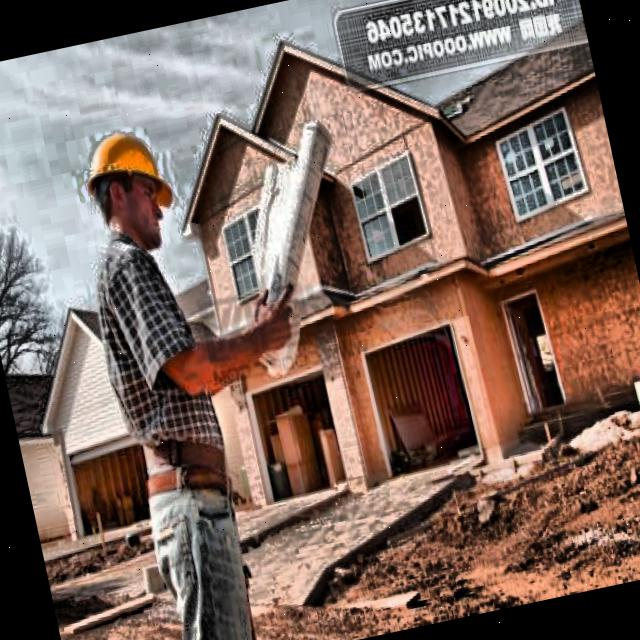helmet: (72, 112, 184, 262)
